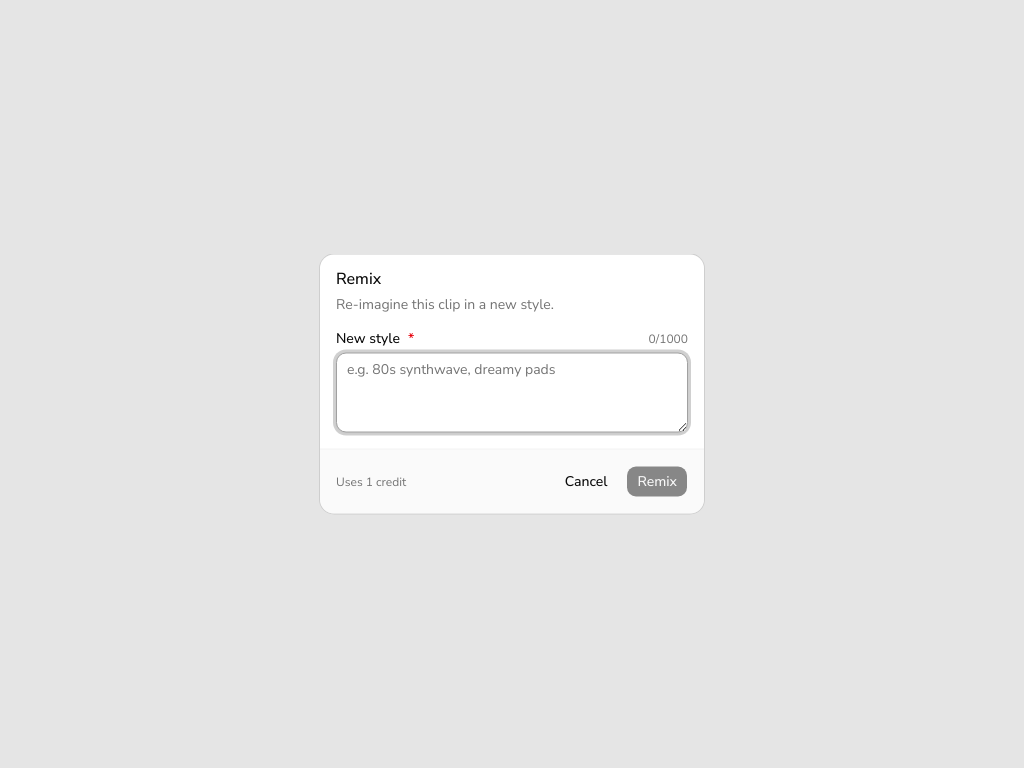
RemixModal › submits the style payload and reaches success
The image size is (1024, 768).
In the text box labelled "New style *": (512, 392) [336,352,688,432], type "80s synthwave"
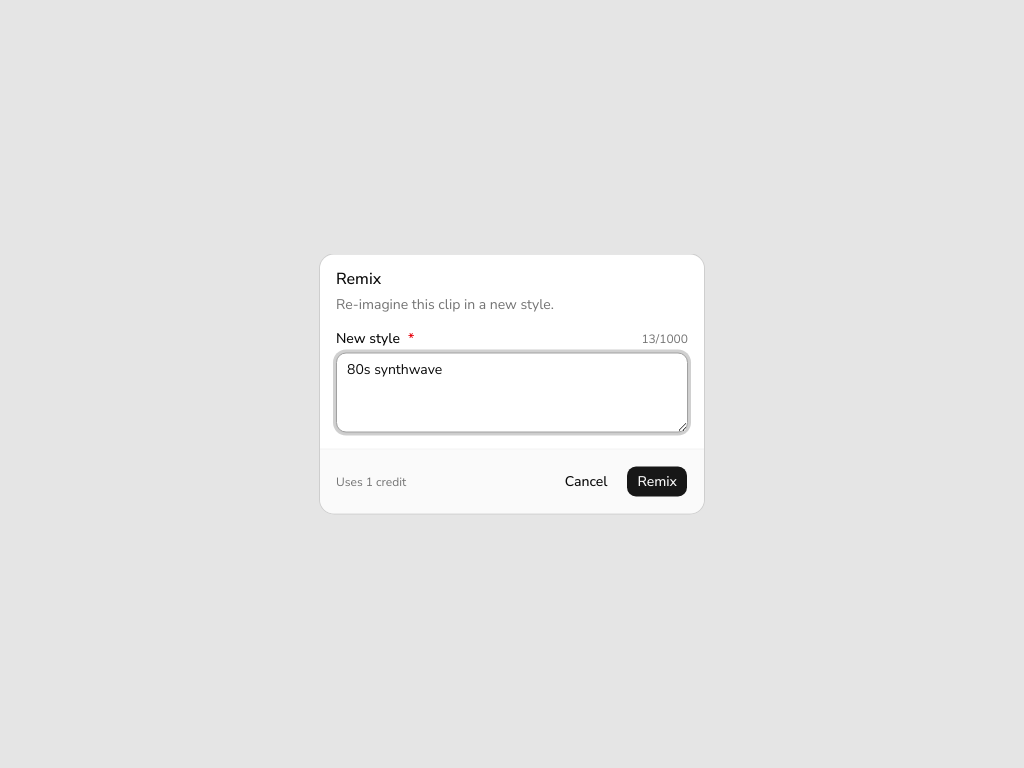
Click the button "Remix": (657, 482) [626,466,688,498]
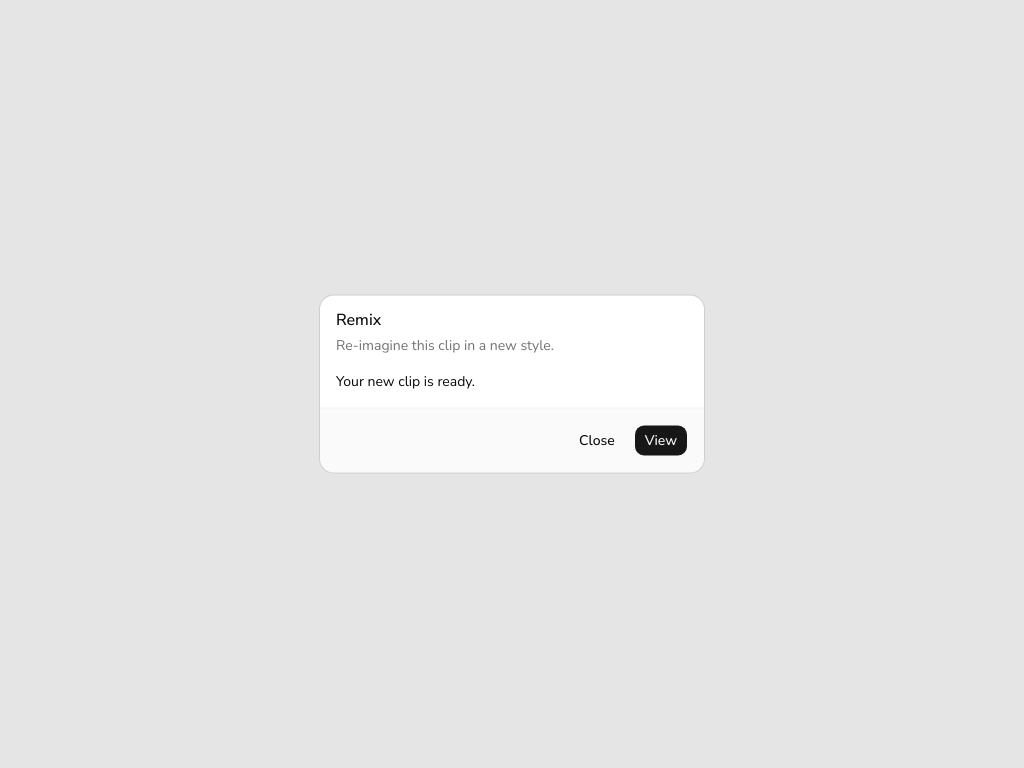
Result: the text "Your new clip is ready." is shown at [336,372,475,390]
